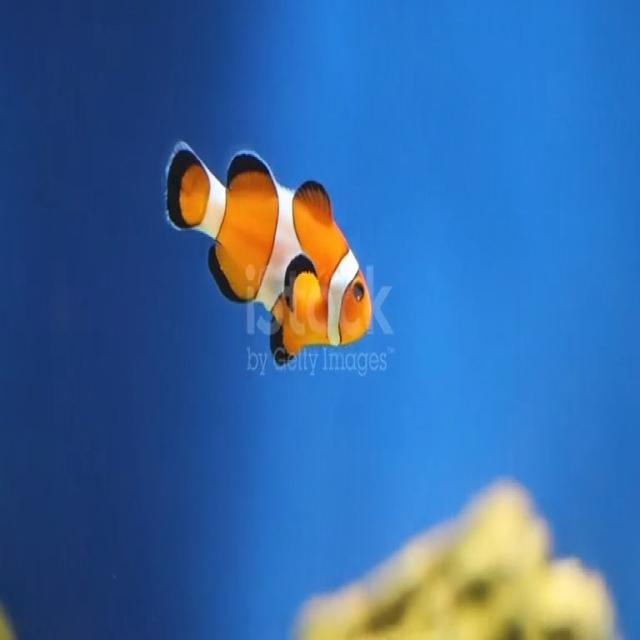fish: (164, 126, 374, 367)
